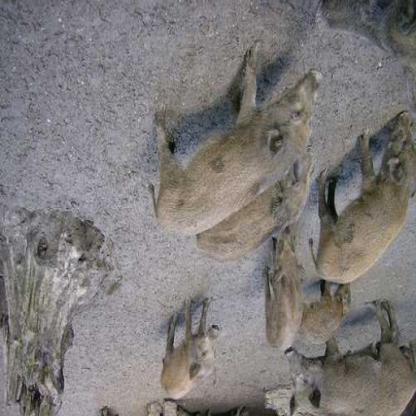boar: (144, 8, 320, 258), (293, 106, 415, 301), (212, 157, 312, 301), (284, 324, 415, 416), (141, 312, 224, 416), (265, 241, 309, 363), (302, 272, 354, 363)
